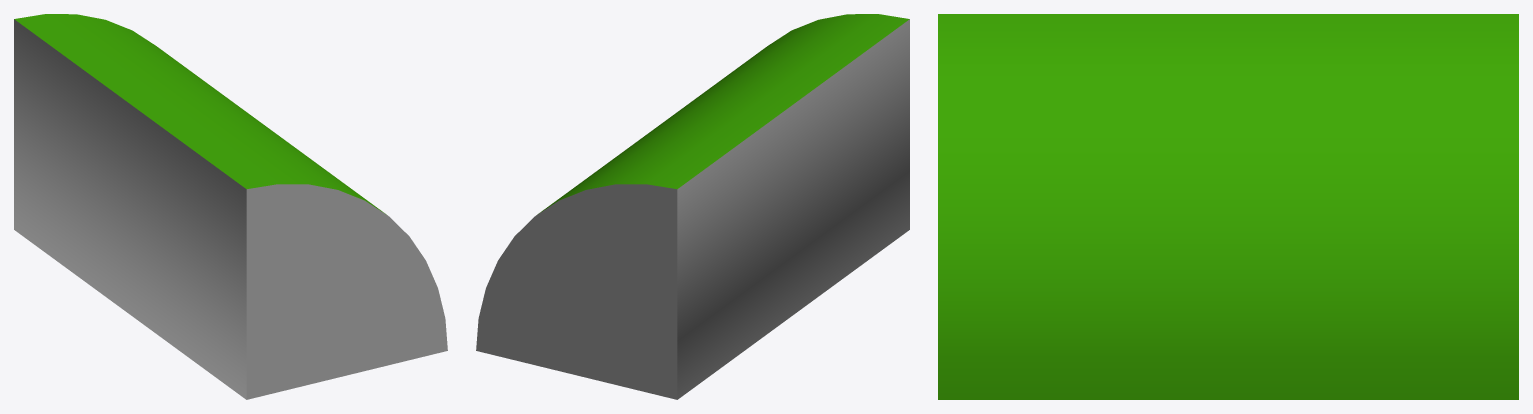
The model's file is InverseRamp.fbx.
3 renders of one model, left to right at view 1: azimuth 30°, elevation 25°; view 2: azimuth 150°, elevation 25°; view 3: azimuth 270°, elevation 25°, orthographic. The views are drawn at different scales.
Visible parts, largest first — view 1: pCylinder2; view 2: pCylinder2; view 3: pCylinder2.
Part boxes in pixels (x1=…): pCylinder2: x1=14, y1=14, x2=447, y2=399; pCylinder2: x1=476, y1=14, x2=909, y2=399; pCylinder2: x1=938, y1=14, x2=1518, y2=399.
Bounding box in the file's own units: 50 × 50 × 100.
